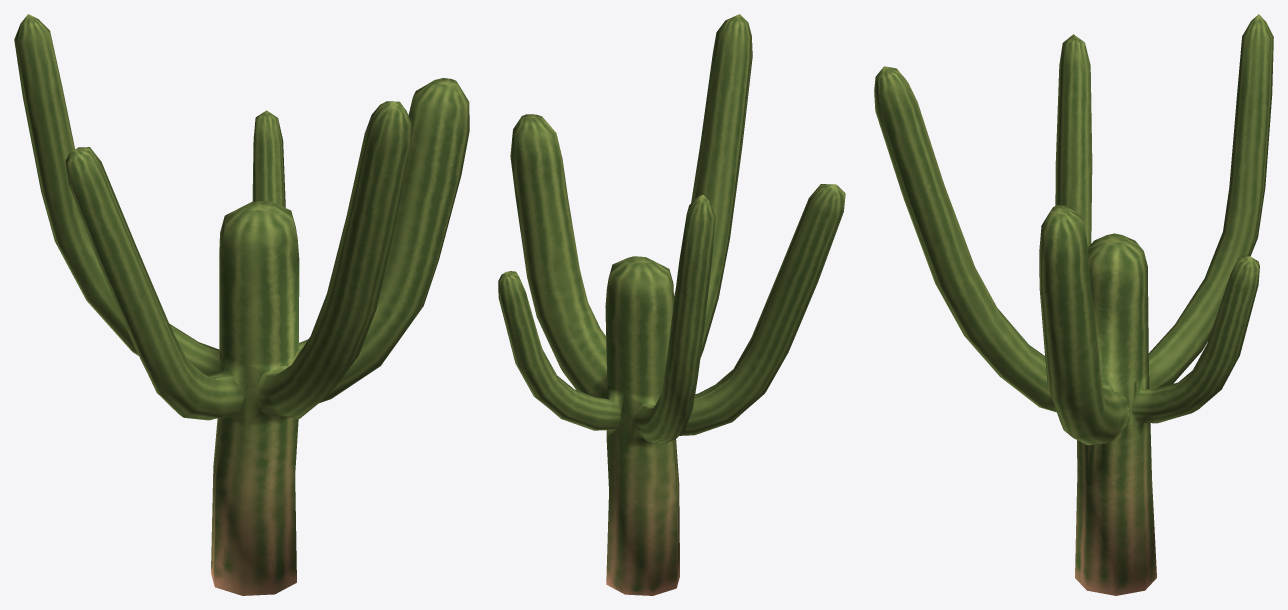
File: cactus_4.glb
3 views of the same model, side by side, from view 1: azimuth 30°, elevation 25°; view 2: azimuth 150°, elevation 25°; view 3: azimuth 270°, elevation 25° (orthographic). The views are drawn at different scales.
Visible parts, largest first — view 1: cactus_4_cacturs_4_0; view 2: cactus_4_cacturs_4_0; view 3: cactus_4_cacturs_4_0.
Part boxes in pixels (<box>): cactus_4_cacturs_4_0: <box>14,14,469,595</box>; cactus_4_cacturs_4_0: <box>498,14,845,595</box>; cactus_4_cacturs_4_0: <box>874,14,1273,595</box>.
Bounding box in the file's own units: 2.21 × 3.03 × 2.12.
1 material, 1 textured.
